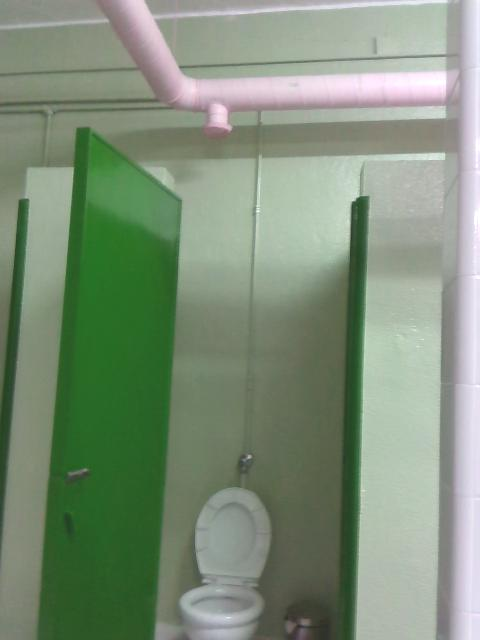open_door: (151, 158, 366, 639)
